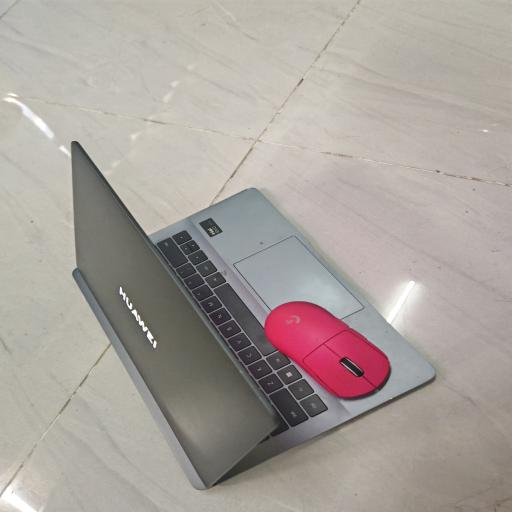laptop: (72, 142, 434, 489)
mouse: (264, 302, 390, 398)
